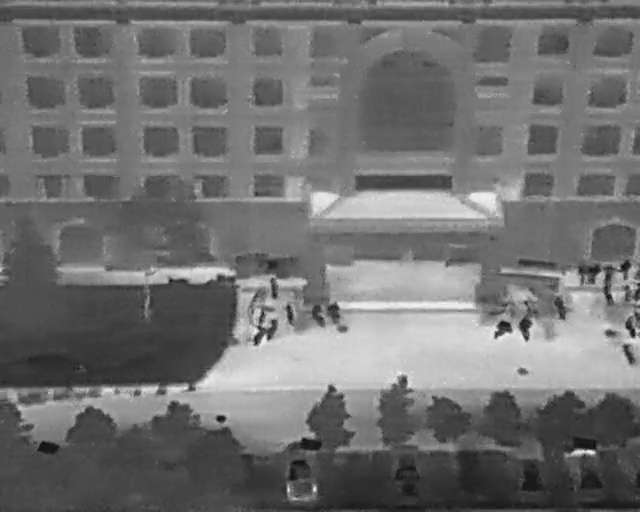Bicycle: (489, 317, 514, 340), (308, 304, 328, 332), (263, 316, 281, 344), (249, 324, 268, 348), (622, 312, 638, 340), (326, 299, 342, 326), (553, 295, 569, 322), (586, 263, 604, 286), (517, 315, 532, 342), (620, 341, 636, 366), (600, 288, 617, 310), (602, 263, 616, 287), (266, 277, 279, 300), (284, 301, 295, 327), (575, 265, 587, 286), (256, 306, 266, 327), (621, 260, 631, 280), (624, 282, 632, 301), (634, 280, 640, 299)
Car: (280, 439, 321, 505), (385, 441, 425, 501), (566, 441, 605, 499), (513, 445, 548, 500)
